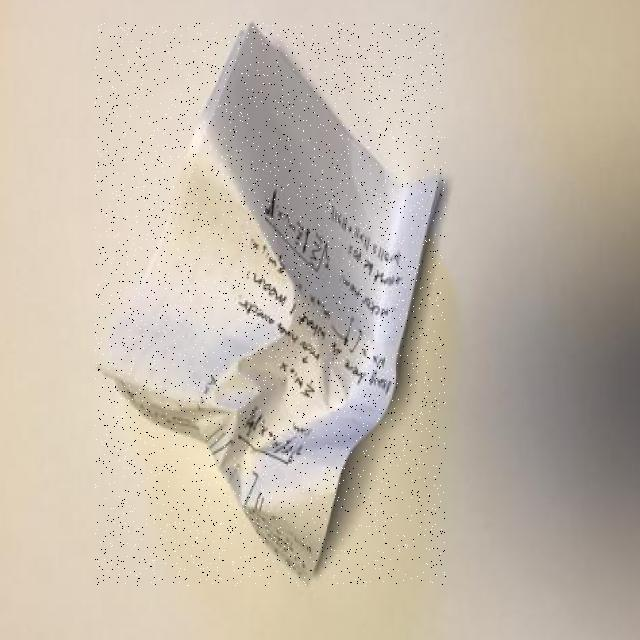paper: (96, 24, 446, 586)
